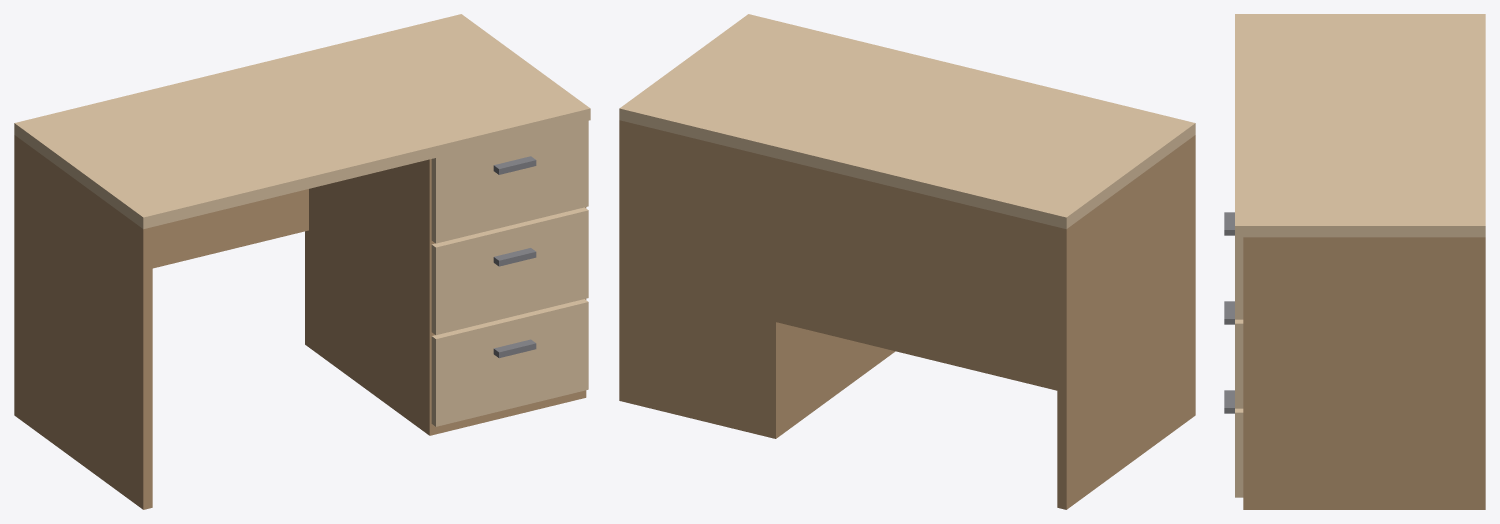
Rendered from escritorio.glb.
The picture shows the model from 3 angles, left to right: view 1: azimuth 30°, elevation 25°; view 2: azimuth 150°, elevation 25°; view 3: azimuth 270°, elevation 25°; orthographic projection. The views are drawn at different scales.
Visible parts, largest first — view 1: Mueble; view 2: Mueble; view 3: Mueble.
Part boxes in pixels (x1,y1,x2,y2): Mueble: [14, 14, 590, 509]; Mueble: [619, 14, 1195, 509]; Mueble: [1224, 14, 1485, 509].
Size of the model in its own units: 1.2 by 0.75 by 0.625.
